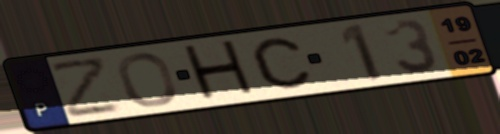1: (338, 21, 386, 85)
3: (382, 17, 441, 77)
C: (249, 35, 315, 91)
H: (178, 37, 261, 105)
O: (115, 51, 181, 109)
Z: (47, 54, 125, 120)
